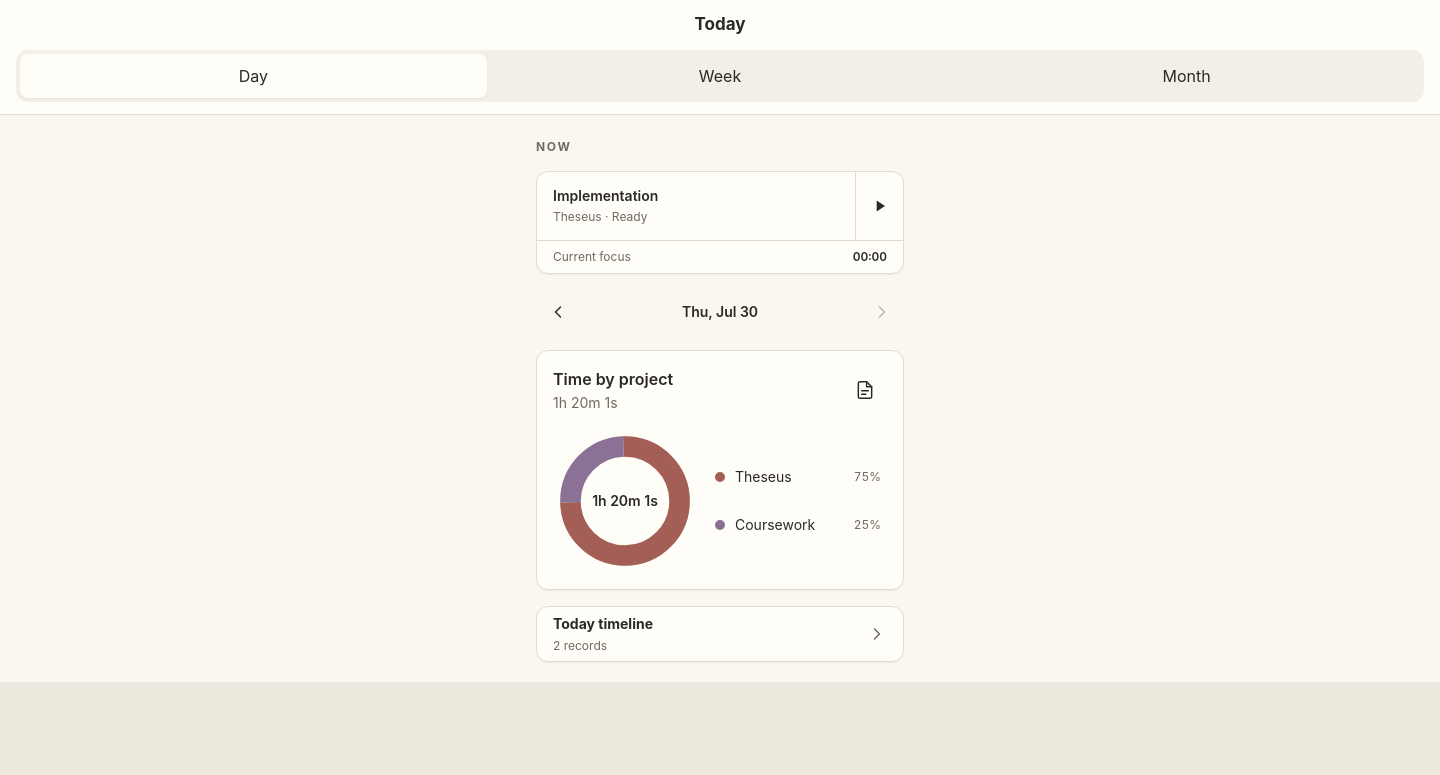
TodayScreen › excludes future dates from the current Week and opens the selected day
Click the button "Week".
click(720, 76)  # box [487, 54, 953, 98]
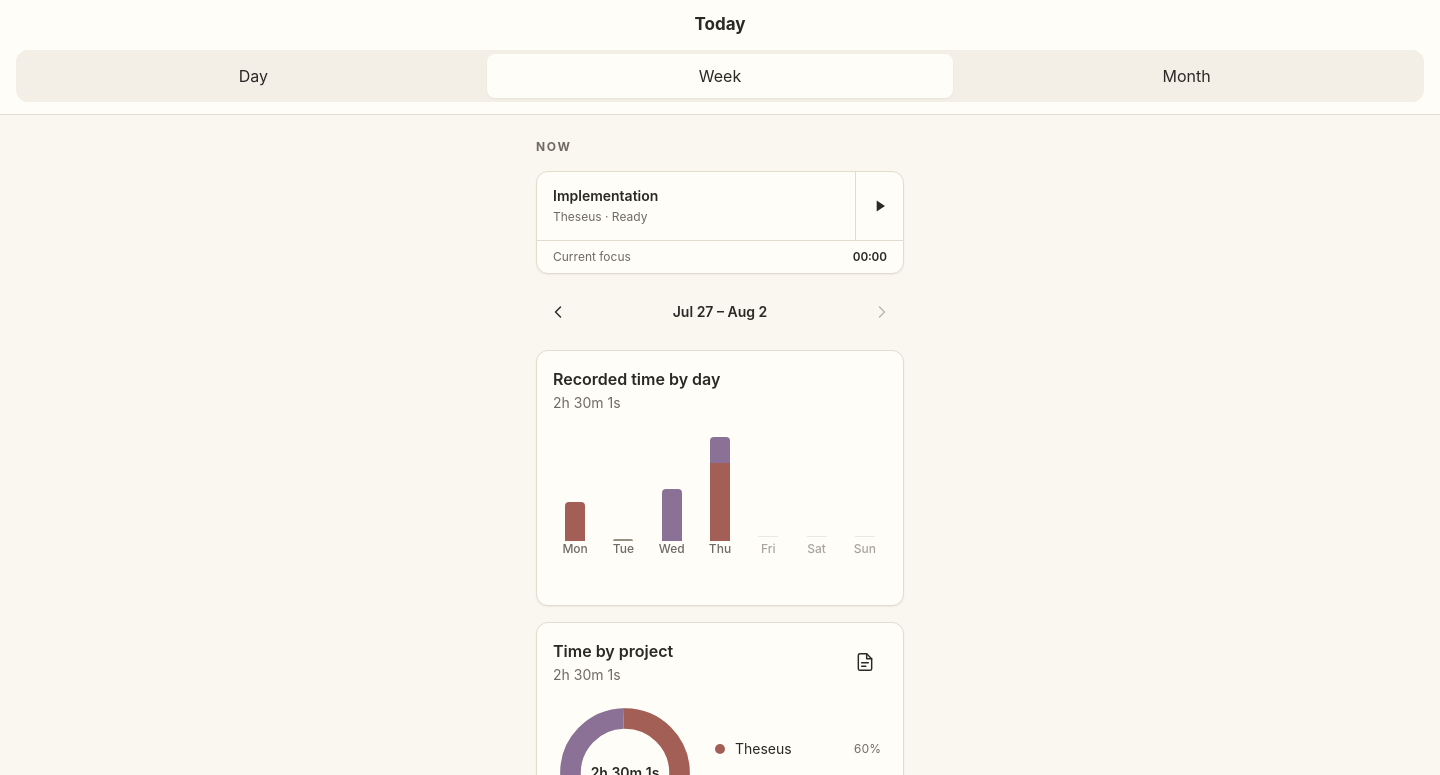
Expected: the text "Jul 27 – Aug 2" is shown, [673, 302, 767, 320]
Expected: the element "Recorded time by day" is shown, [536, 350, 904, 606]
Expected: the number of buttons named "time records" is 4
Click the button with aria-label "open wed, jul 29 time records, 40m".
click(672, 508)  # box [650, 428, 694, 588]
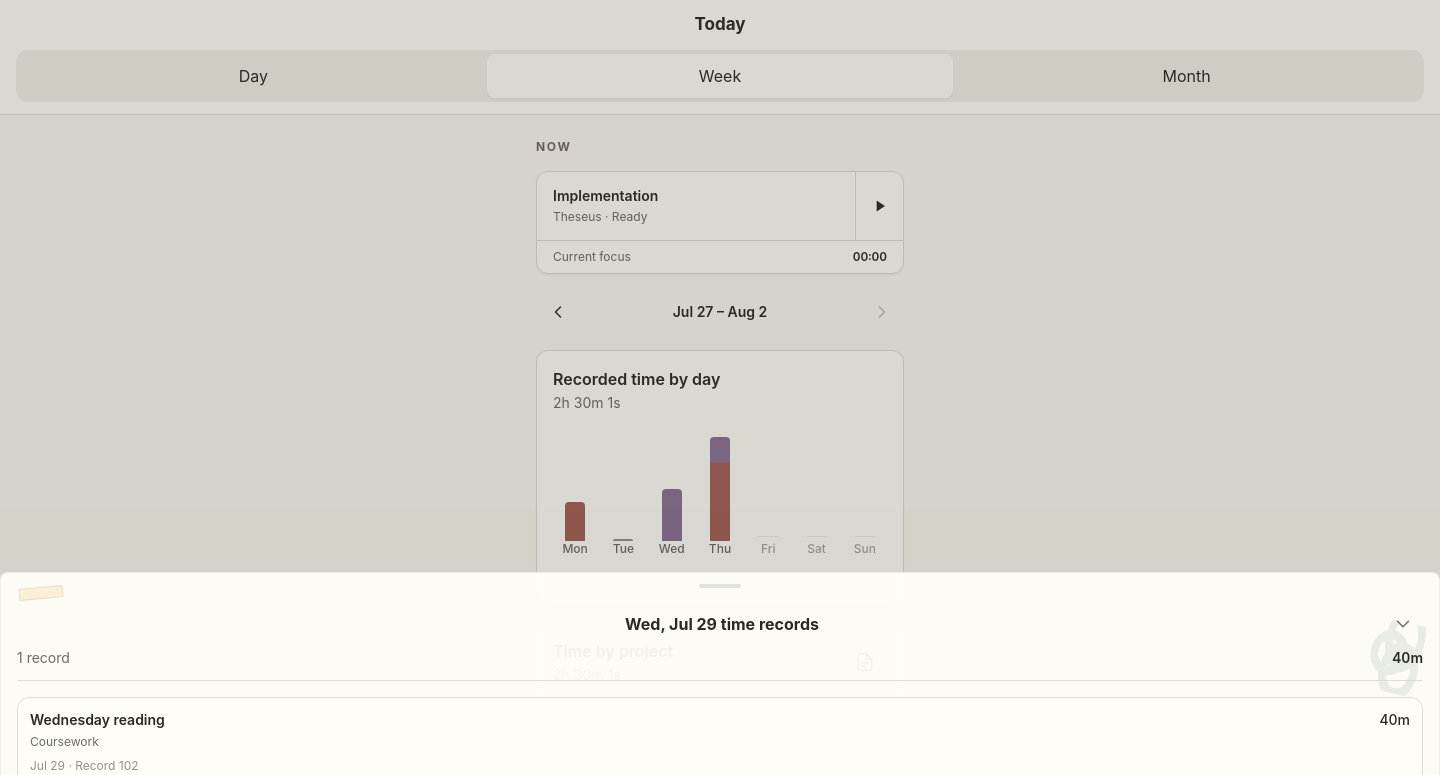
Expected: the text "Wednesday reading" is shown, [30, 710, 165, 730]
